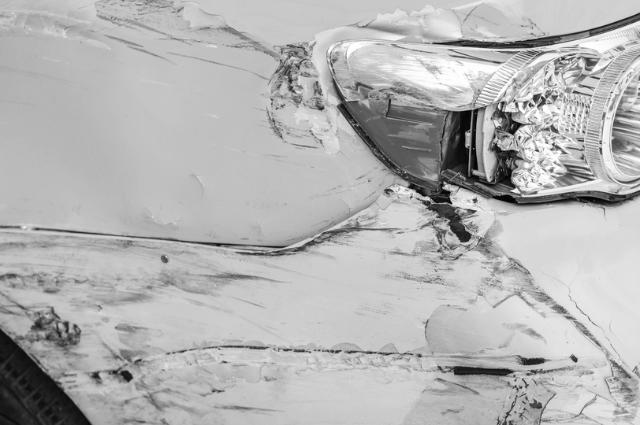Bumper: (0, 206, 640, 425)
Fender: (4, 0, 387, 233)
Light: (354, 39, 640, 189)
